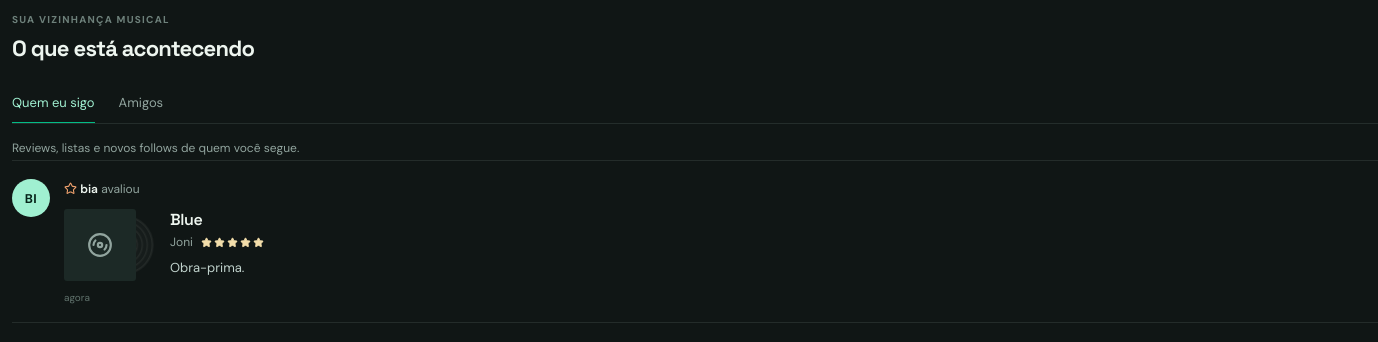
Test: HomeFeed › reloads with the friends scope when the tab changes
The width and height of the screenshot is (1378, 342).
Check: the link "Blue" is shown, box [170,209,202,230]
Click the tab "Amigos" at (141, 102), box [119,82,163,123]
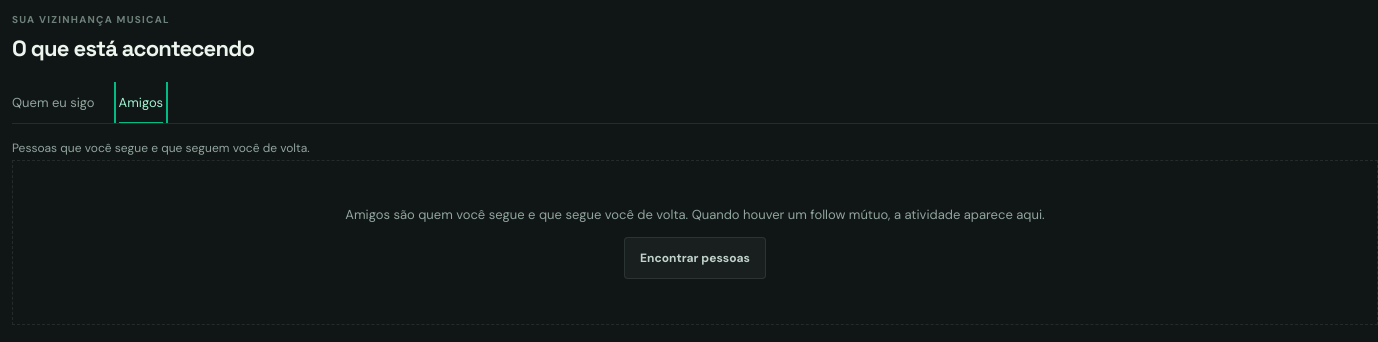
Check: the text "follow mútuo" is shown, box [345,206,1045,223]
